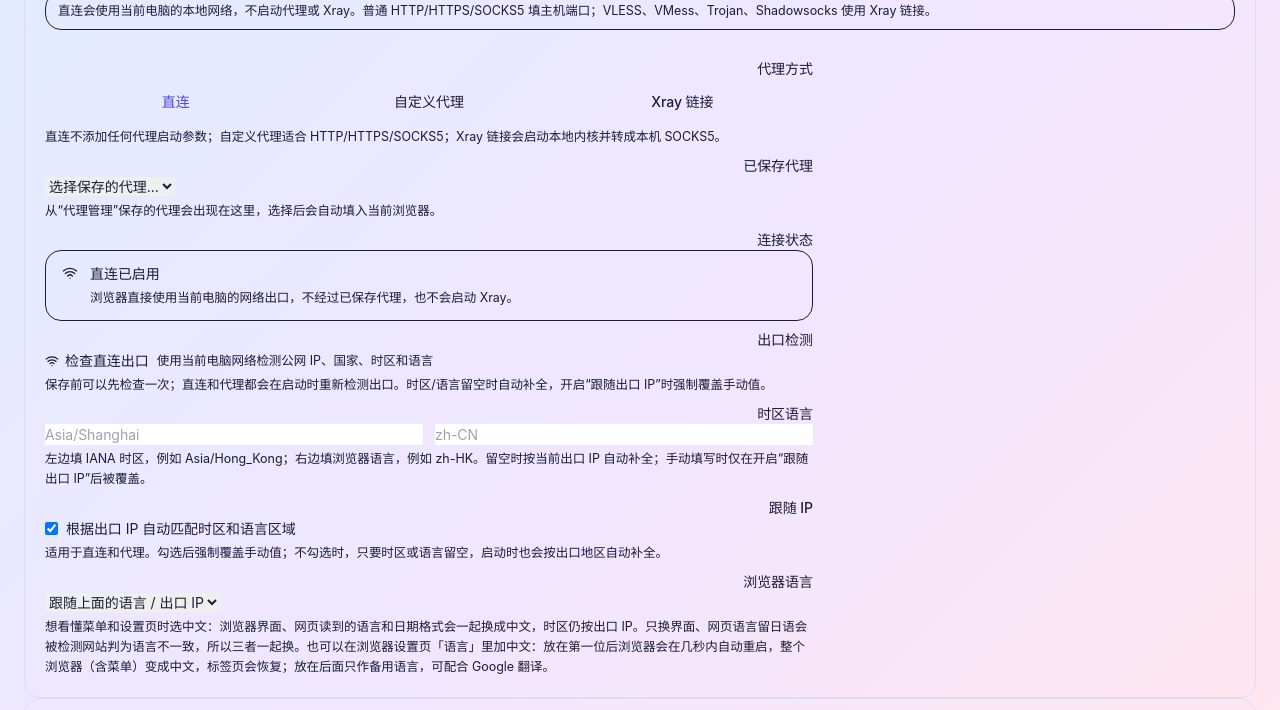
Test: ProfileForm review warnings › shows no rotation warning for a single, unchanged exit IP
(page scrolled)
Click the button "检查直连出口" at (97, 360), box [45, 350, 149, 371]
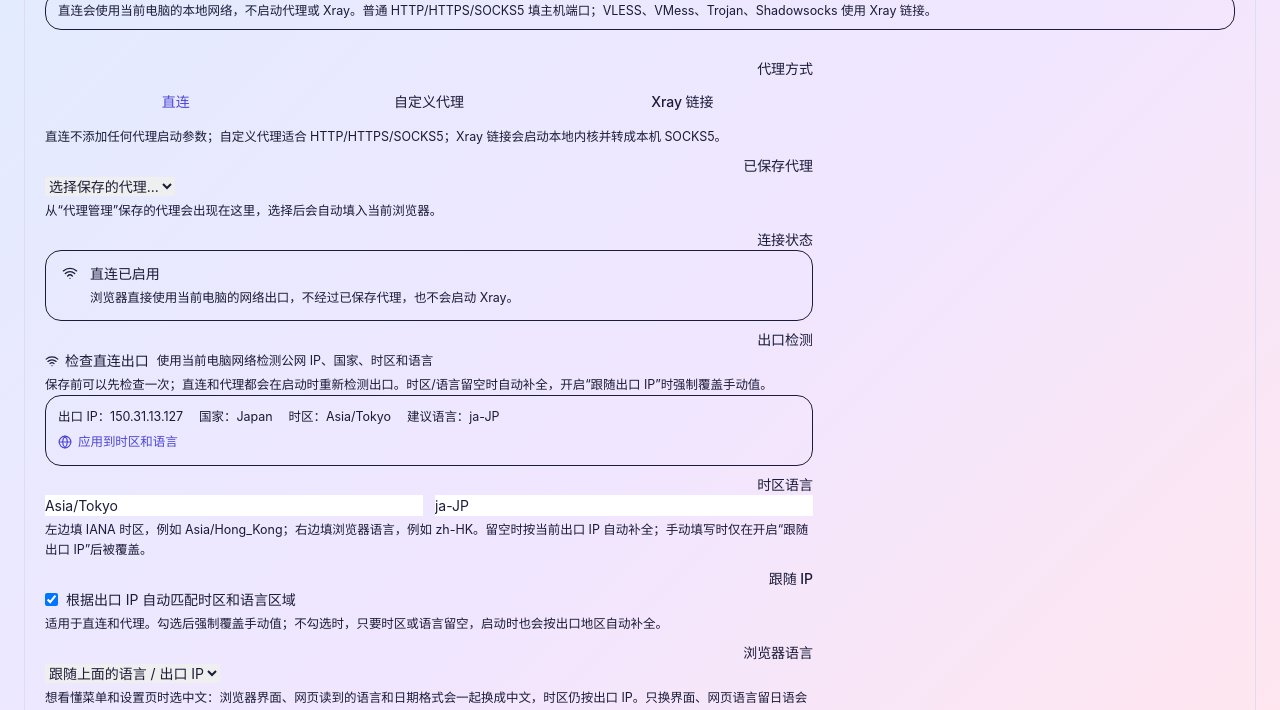
Expected: the text "出口 IP：150.31.13.127" is shown, [58, 408, 183, 425]
